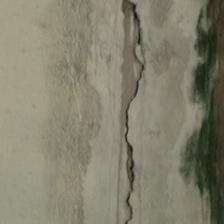Crack: (121, 4, 147, 223)
